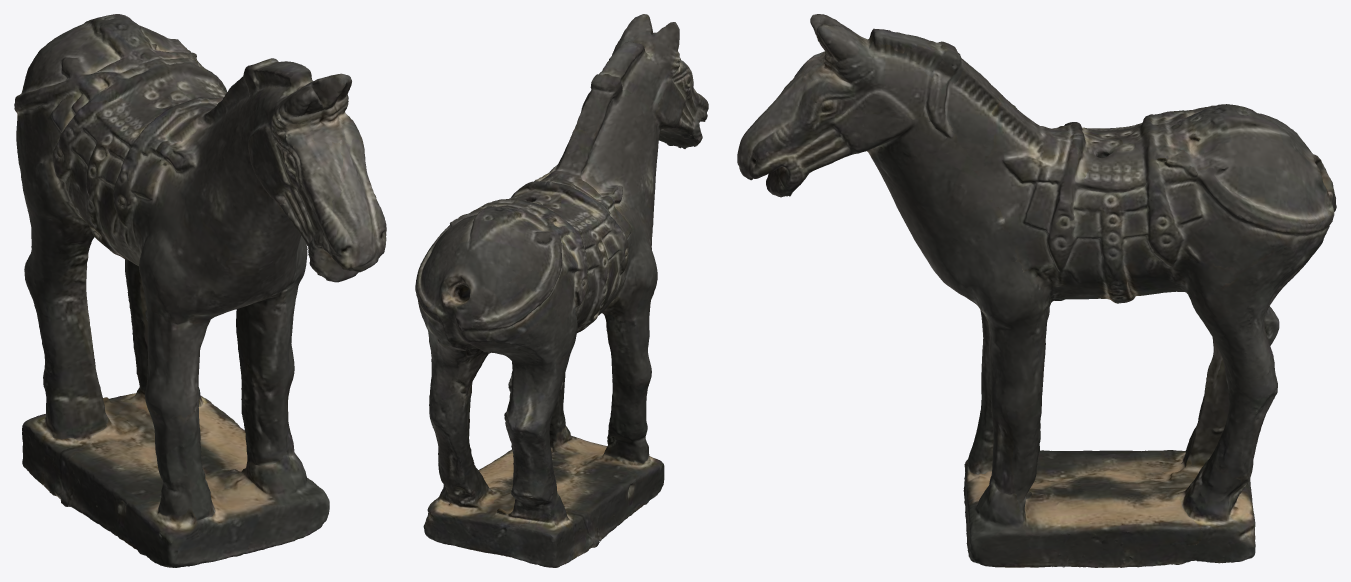
The model's file is horse.glb.
The picture shows the model from 3 angles, left to right: view 1: azimuth 30°, elevation 25°; view 2: azimuth 150°, elevation 25°; view 3: azimuth 270°, elevation 25°; orthographic projection. The views are drawn at different scales.
Parts seen in each view (by area): view 1: Object_4; view 2: Object_4; view 3: Object_4.
Boxes of the visible parts, x1,y1,x2,y2 form: Object_4: [14, 14, 386, 567]; Object_4: [415, 14, 708, 567]; Object_4: [737, 14, 1336, 567].
Size of the model in its own units: 0.3801 by 1.1 by 1.16.
1 material, 1 textured.
